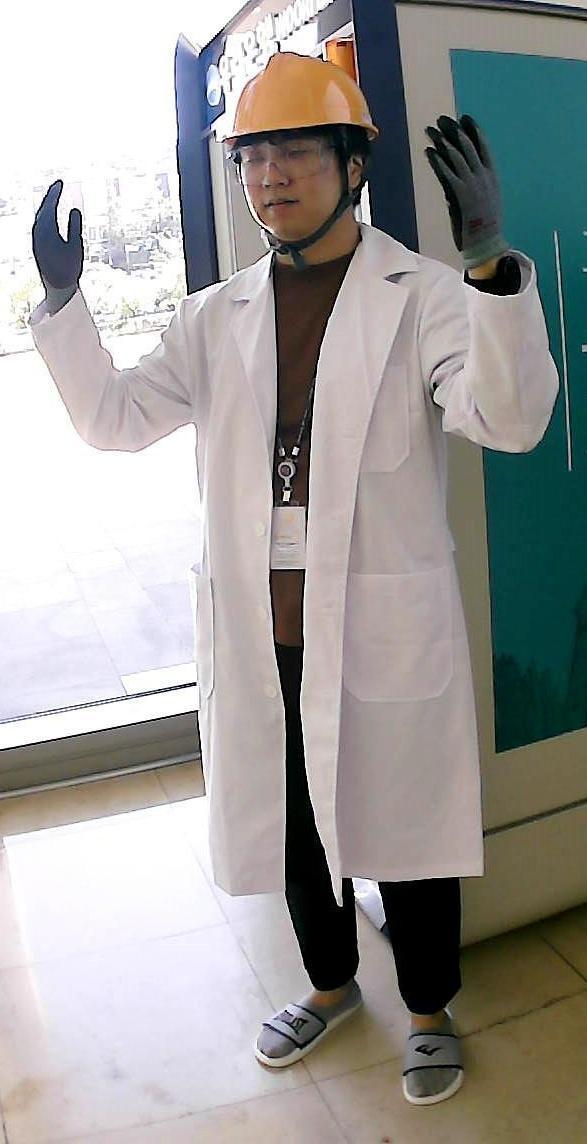lab_coat: (164, 278, 460, 899)
